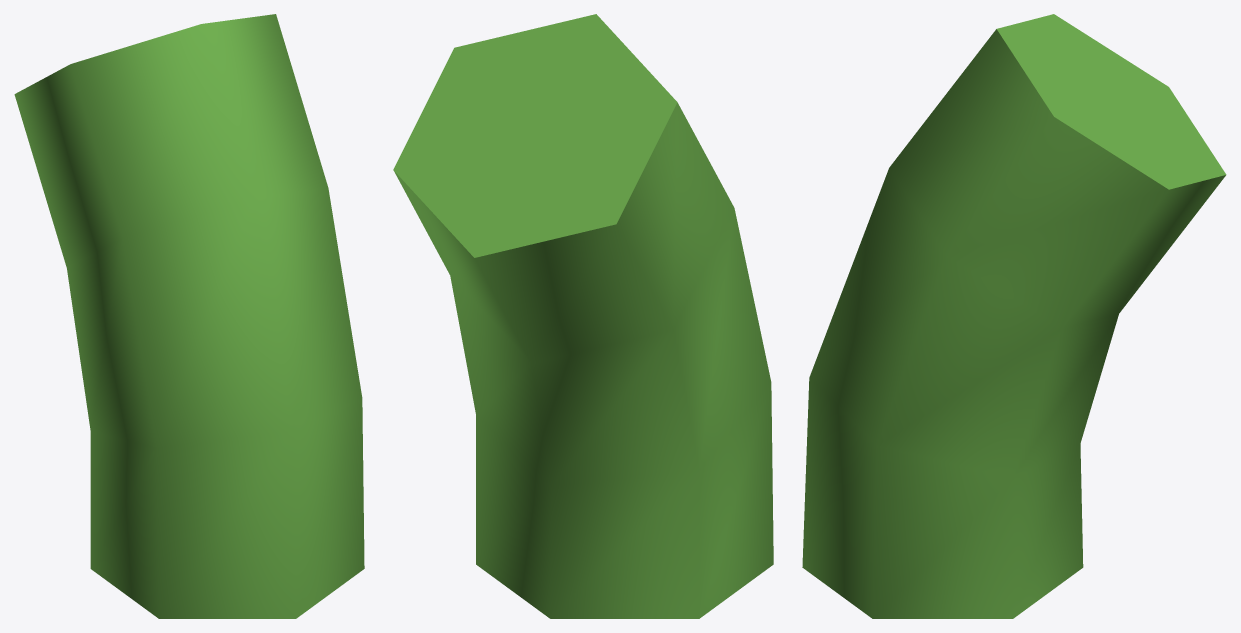
File: met ladder hldr cap.FBX
3 renders of one model, left to right at view 1: azimuth 30°, elevation 25°; view 2: azimuth 150°, elevation 25°; view 3: azimuth 270°, elevation 25°, orthographic. The views are drawn at different scales.
Parts seen in each view (by area): view 1: Cylinder102; view 2: Cylinder102; view 3: Cylinder102.
Part boxes in pixels (<box>): Cylinder102: <box>14,14,364,618</box>; Cylinder102: <box>393,14,773,618</box>; Cylinder102: <box>802,14,1226,618</box>.
Size of the model in its own units: 0.0433 by 0.1059 by 0.0755.
